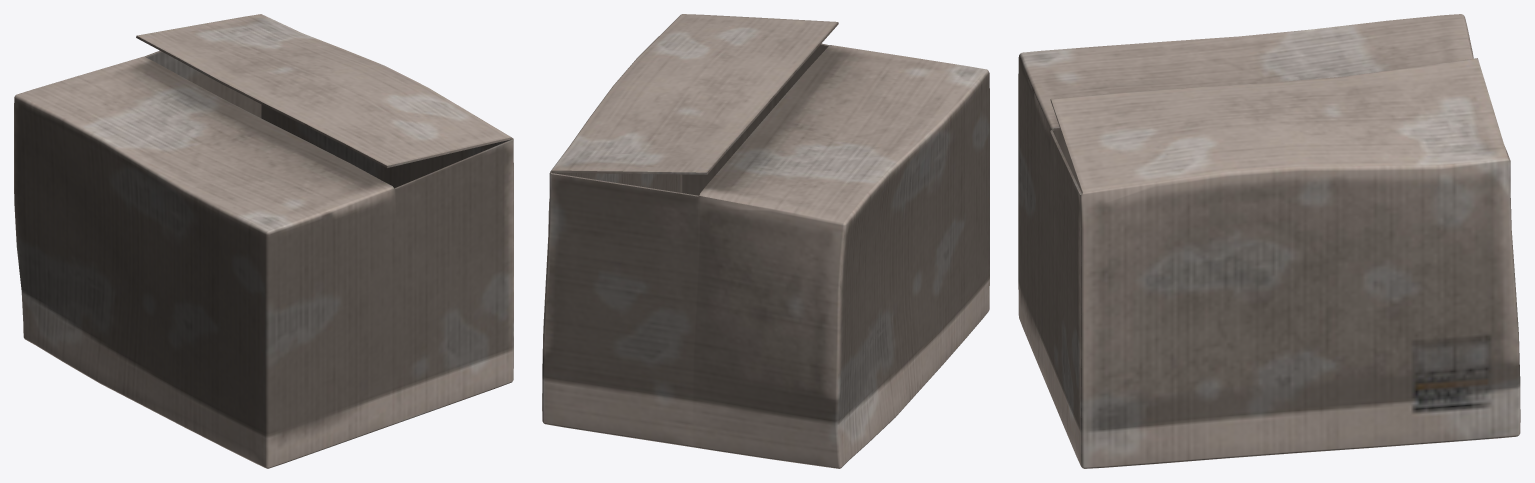
Rendered from cardboardbox2.glb.
3 renders of one model, left to right at view 1: azimuth 30°, elevation 25°; view 2: azimuth 150°, elevation 25°; view 3: azimuth 270°, elevation 25°, orthographic. The views are drawn at different scales.
Visible parts, largest first — view 1: cardboard box 2; view 2: cardboard box 2; view 3: cardboard box 2.
Boxes of the visible parts, x1,y1,x2,y2 form: cardboard box 2: [14, 14, 513, 468]; cardboard box 2: [542, 14, 989, 468]; cardboard box 2: [1018, 14, 1520, 468].
Bounding box in the file's own units: 59.65 × 46.17 × 69.51.
Materials: 1 (1 with a texture image).
